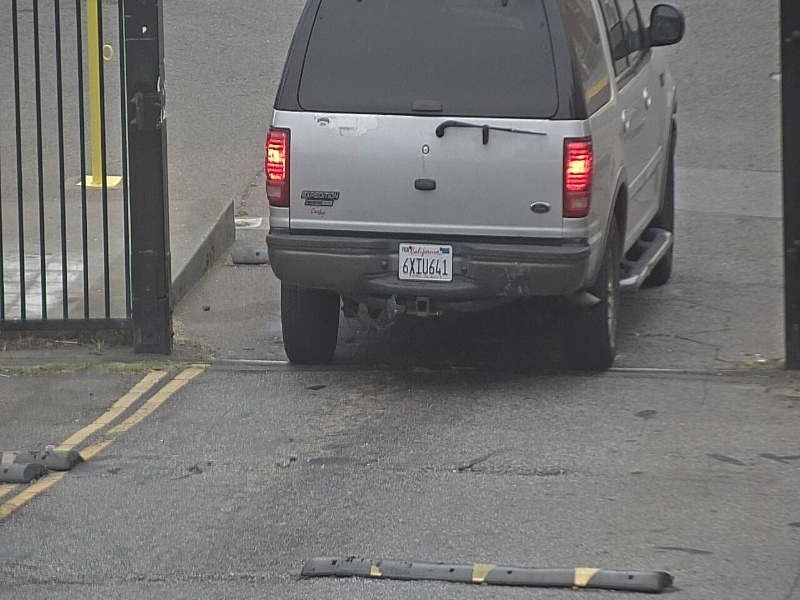licence plate: (395, 241, 456, 285)
